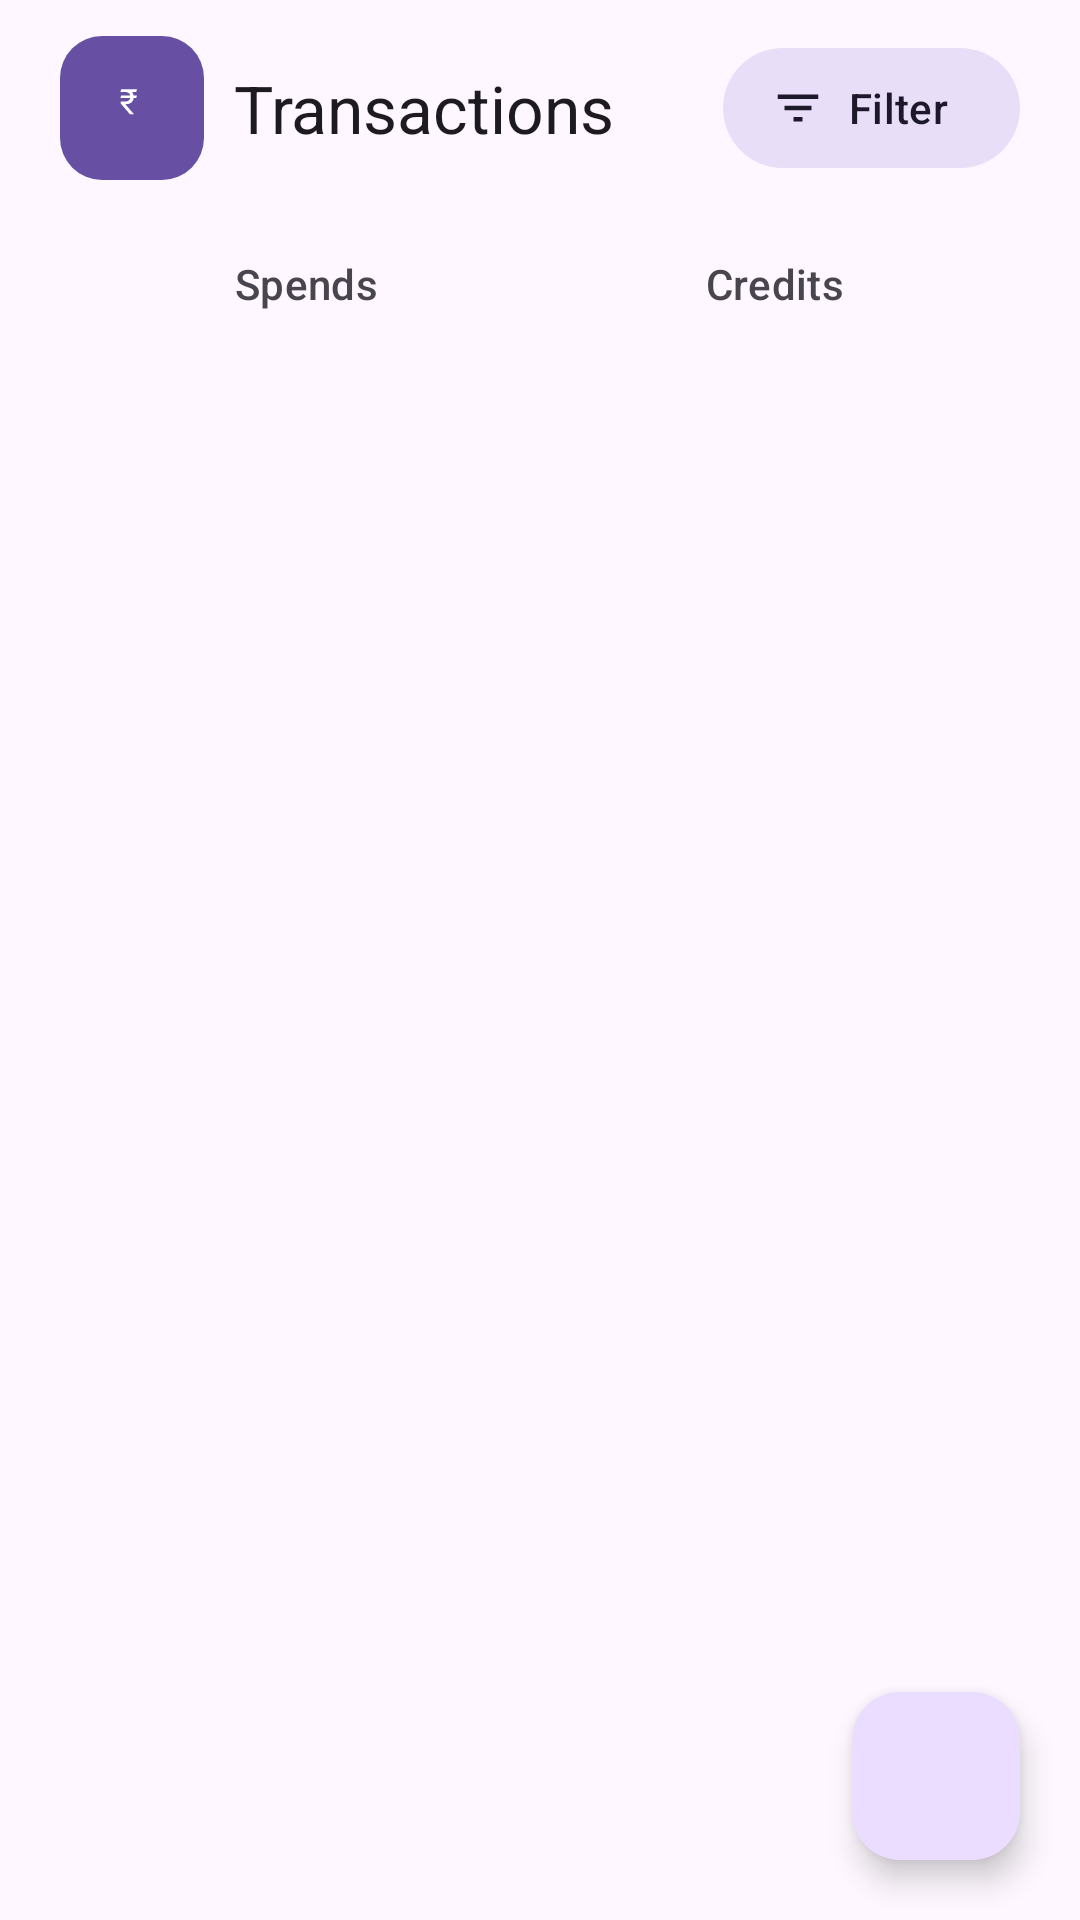

Icon bounding boxes for this 1080x1920 phone screenshot, format (x1, y1, x2, y2):
brand mark: (60, 36, 204, 180)
